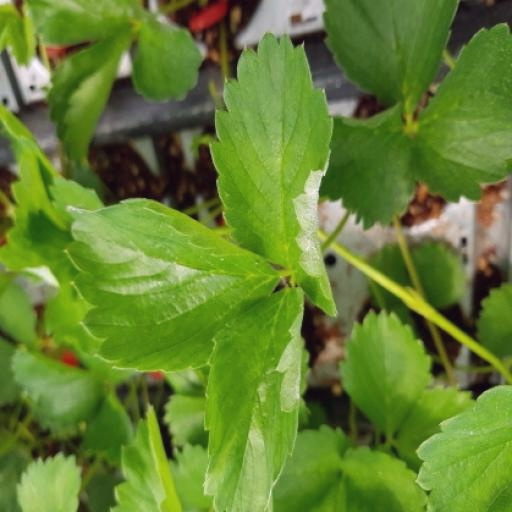Powdery Mildew Leaf: (226, 140, 449, 314), (173, 195, 303, 481), (207, 0, 310, 226)
